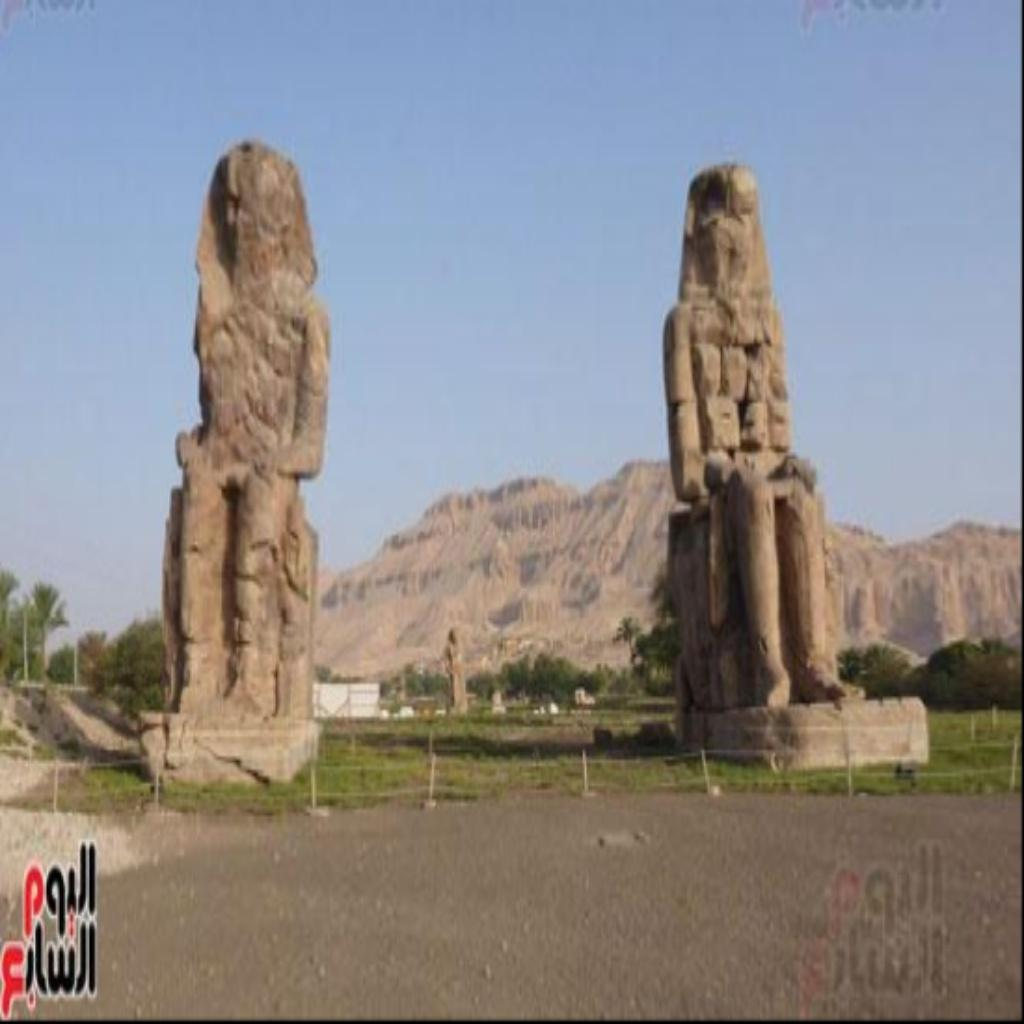Colossoi of Memnon: (652, 152, 929, 766), (138, 132, 335, 786)
